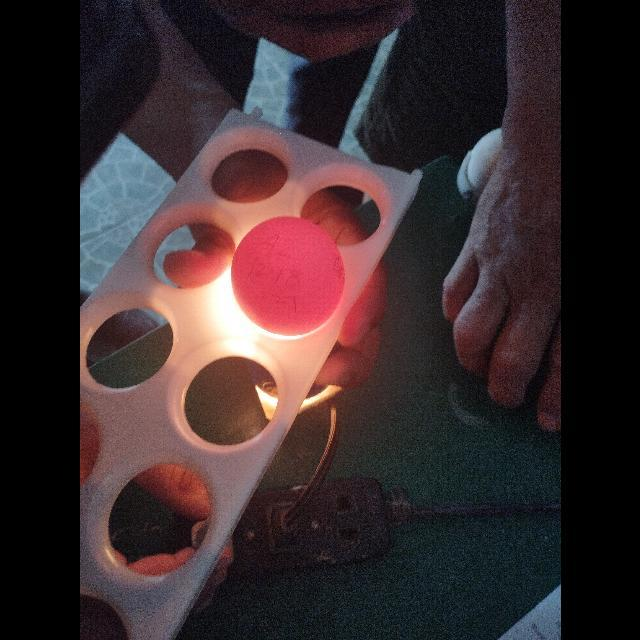Infertile: (232, 220, 342, 326)
